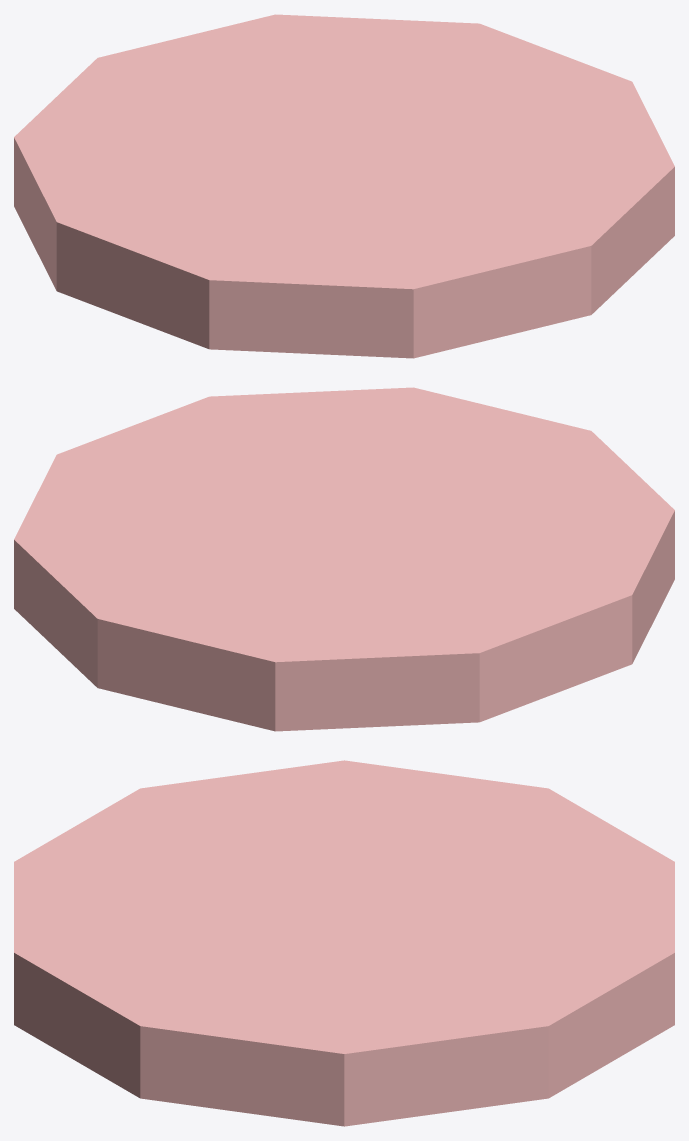
File: patchModelBobbinSecond.gltf
3 views of the same model, one above another, from view 1: azimuth 30°, elevation 25°; view 2: azimuth 150°, elevation 25°; view 3: azimuth 270°, elevation 25° (orthographic). The views are drawn at different scales.
Parts seen in each view (by area): view 1: pCylinder6; view 2: pCylinder6; view 3: pCylinder6.
Part boxes in pixels (x1,y1,x2,y2): pCylinder6: (14,14,674,358); pCylinder6: (14,387,674,731); pCylinder6: (14,760,674,1126).
Size of the model in its own units: 1.74 by 0.2 by 1.65.
